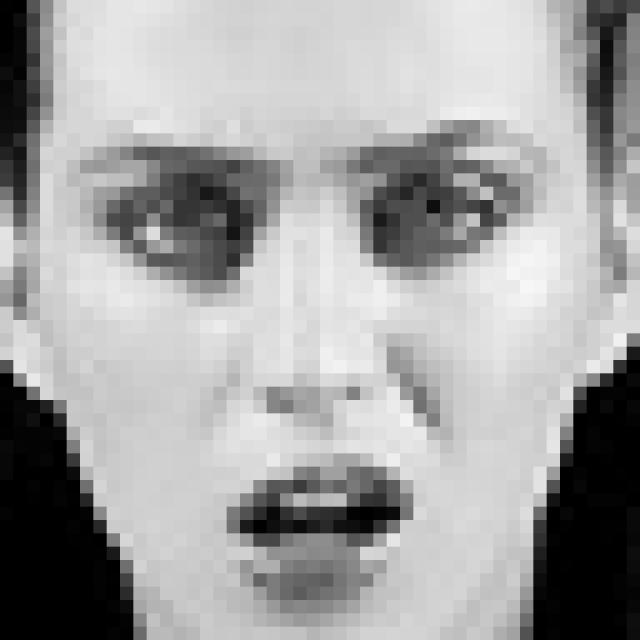disgust: (77, 116, 550, 604)
